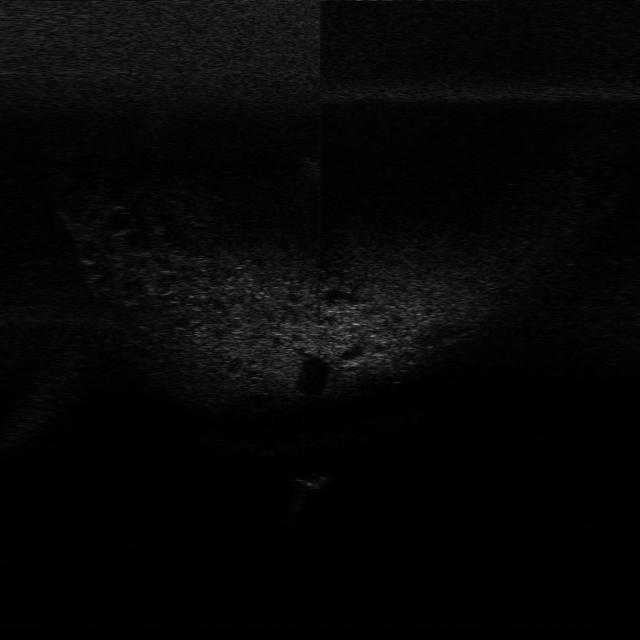cube: (296, 467, 330, 493)
